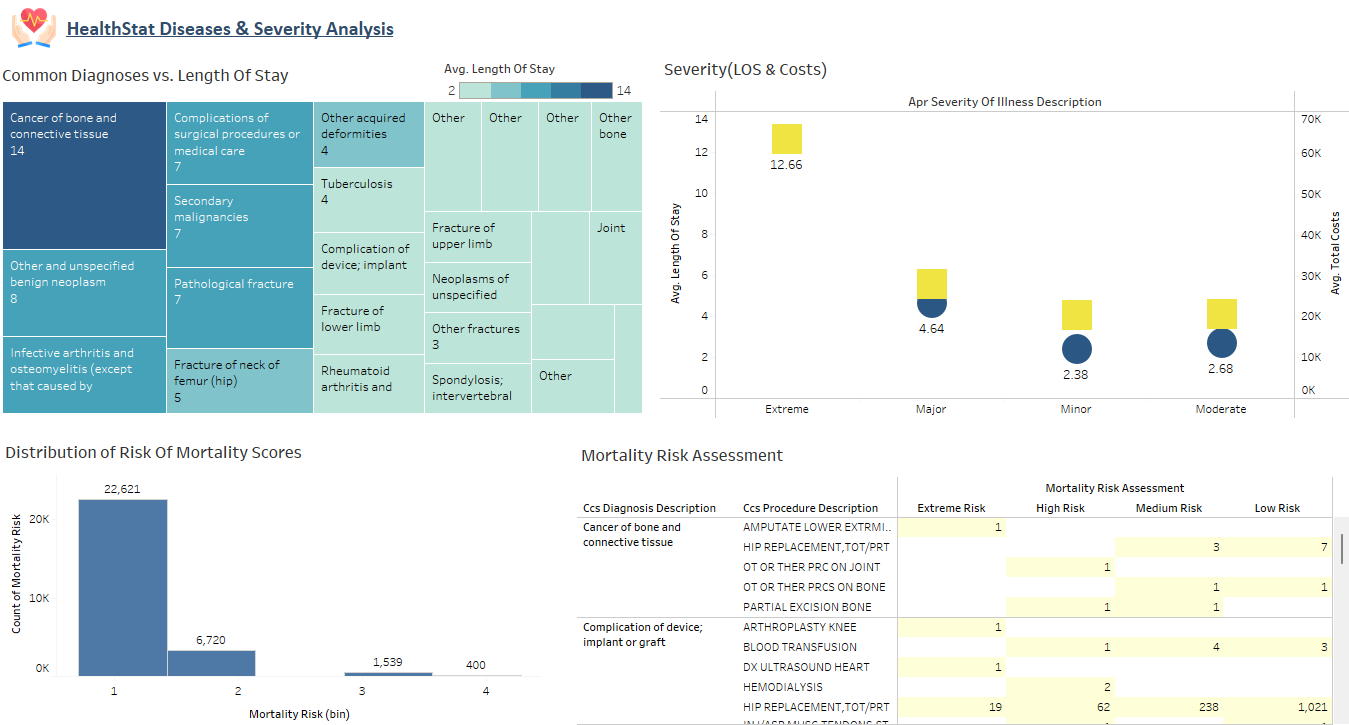

The page's visual inventory and layout, read from the dashboard file:
{"tool":"tableau","page":{"name":"Disease & Severity Analysis","canvas":[1000,1000],"units":"permille","ordinal":0},"visuals":[{"type":"text","box":[49.4,6.9,512.5,73.6]},{"type":"image","param":"Image/health_18725220.png","box":[10,12.5,52,61.2]},{"type":"worksheet","title":"Severity(LOS & Costs)","mark":"Automatic","rows":["length_of_stay","total_costs"],"cols":["apr_severity_of_illness_description"],"box":[485.7,78.8,504.8,494.9]},{"type":"worksheet","title":"Common Diagnoses vs. Length Of Stay","mark":"Automatic","box":[0.9,87.3,474.5,484.6]},{"type":"legend","title":"Common Diagnoses vs. Length Of Stay","param":"[federated.0fe5ega1tk4a3g1f8hqim1uts35y].[avg:length_of_stay:qk]","box":[327.3,87.3,140.3,75.3]},{"type":"worksheet","title":"Distribution of Risk Of Mortality Scores","mark":"Automatic","rows":["Calculation_415738592754212865"],"cols":["Mortality Risk (bin)"],"box":[2.6,597.6,396.5,393.8]},{"type":"worksheet","title":"Mortality Risk Assessment","mark":"Square","rows":["ccs_diagnosis_description","ccs_procedure_description"],"cols":["Calculation_604326826715426817"],"box":[424.2,601,566.2,397.3]}]}

Visuals, with their boxes on the dashboard's canvas, which has no fixed pixel size, in thousandths of its width and height (x1, y1, x2, y2). These are canvas units, not pixel positions in the 1349x725 screenshot, which may show the page scaled, cropped or inside an application window:
text: 49:7:562:80
image: 10:12:62:74
"Severity(LOS & Costs)" worksheet: 486:79:990:574
"Common Diagnoses vs. Length Of Stay" worksheet: 1:87:475:572
"Common Diagnoses vs. Length Of Stay" legend: 327:87:468:163
"Distribution of Risk Of Mortality Scores" worksheet: 3:598:399:991
"Mortality Risk Assessment" worksheet (Square marks): 424:601:990:998
